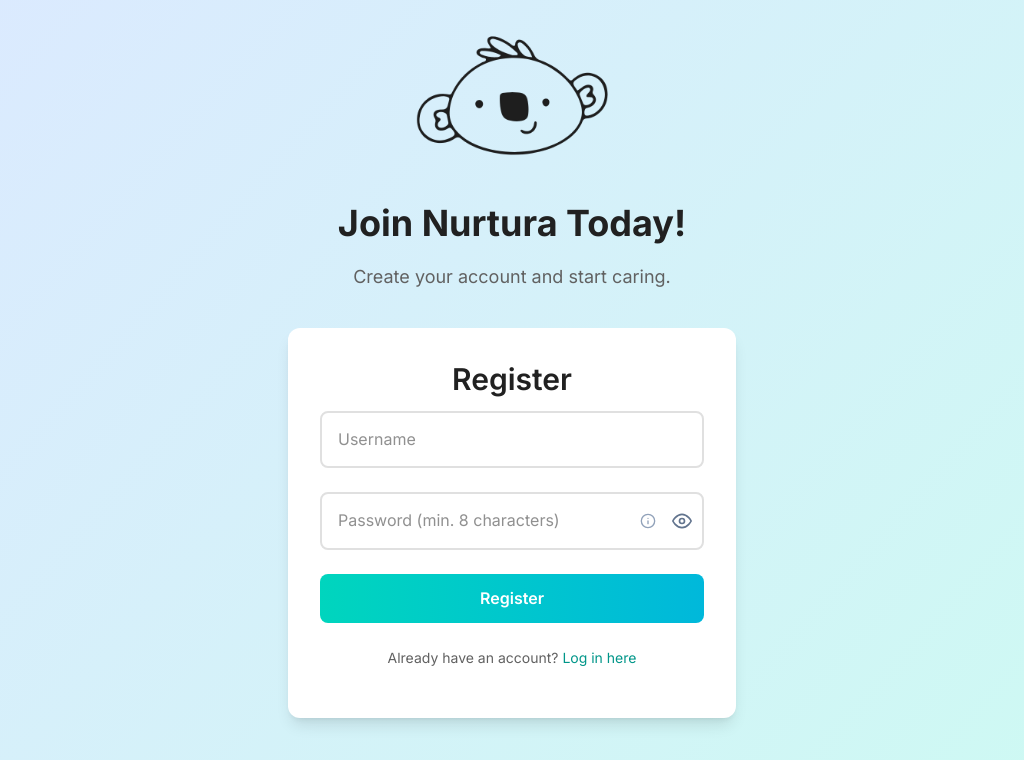
Test: Registration Page › shows error for weak password
This screenshot has width=1024, height=760.
// Fill in registration form with weak password
In the field with placeholder "Username": (512, 440) [320,411,704,469], type "NewUser"
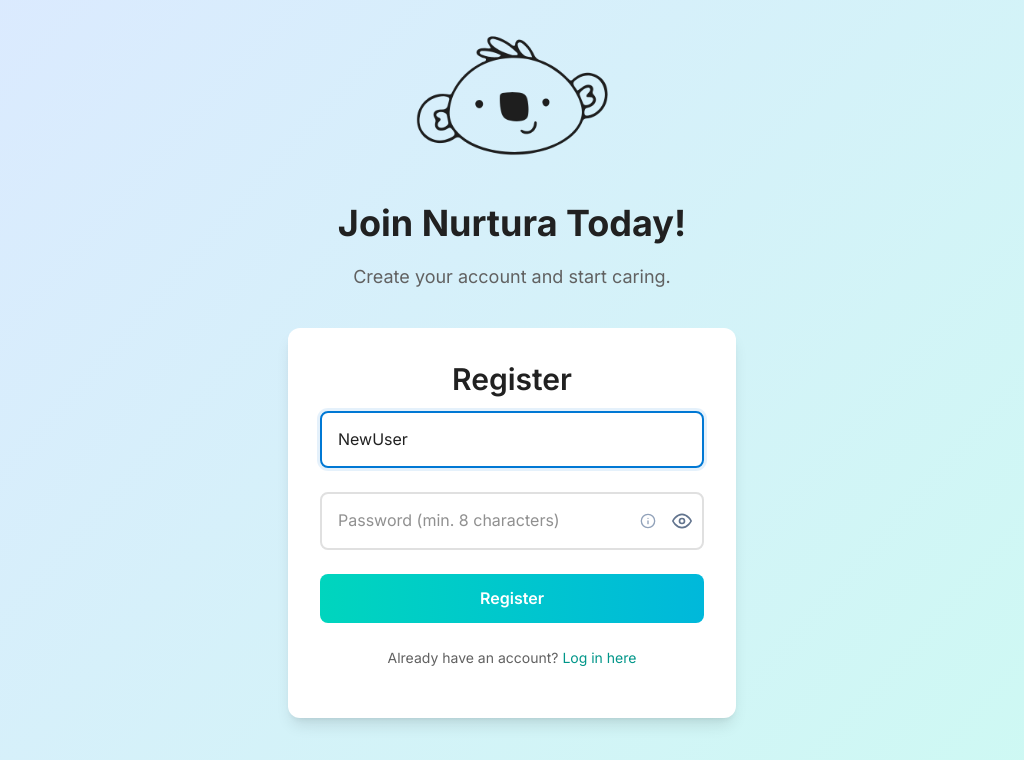
In the password field with placeholder "Password (min. 8 characters)": (512, 521) [320,492,704,550], type "123"
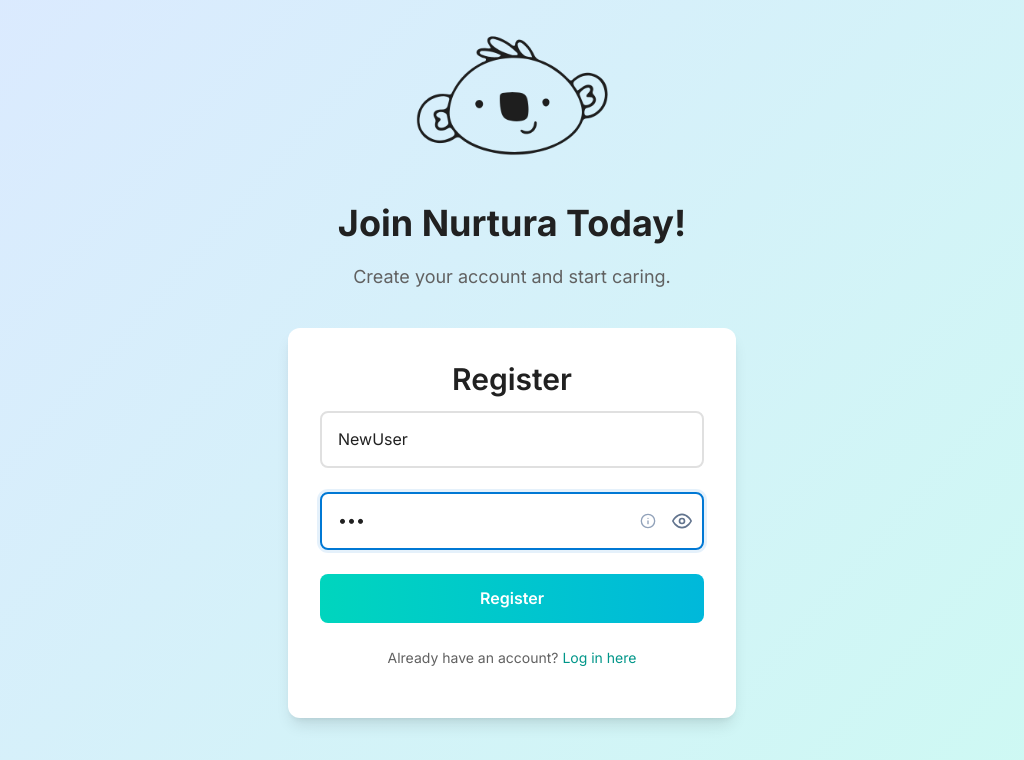
// Click submit
Click the submit button: (512, 599) [320,574,704,624]
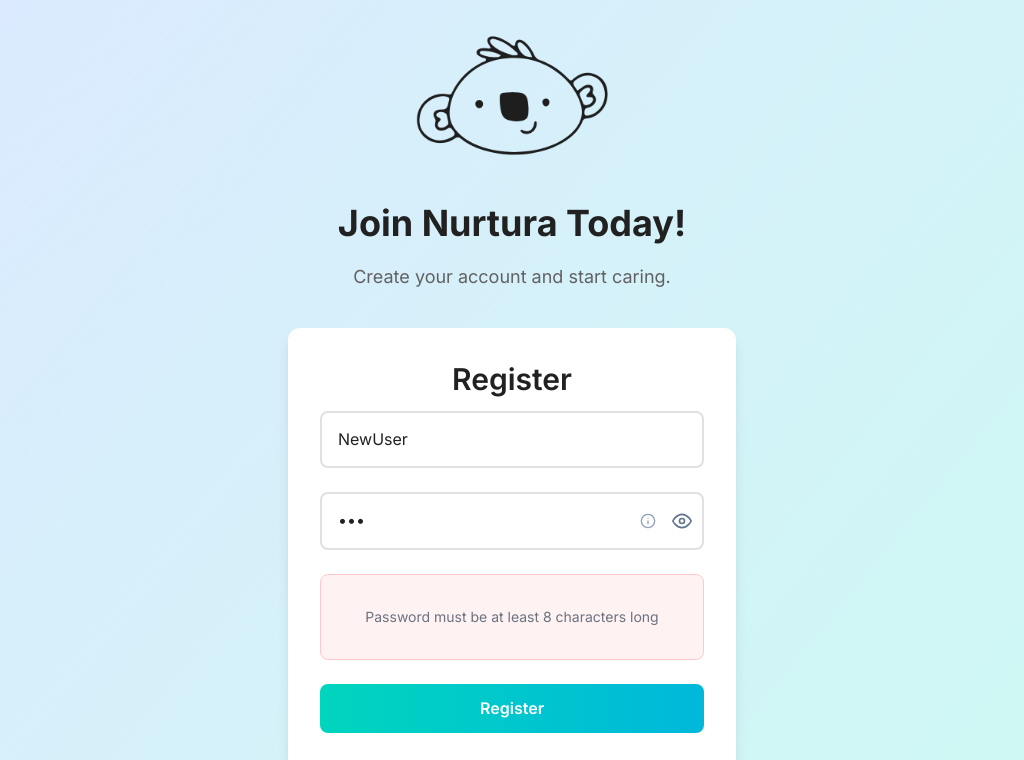
expect the text with class "error-message" reads "Password must be at least 8 characters long": met, box [365,608,658,625]
